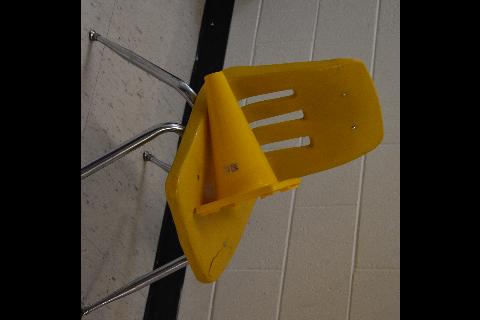cone: (193, 70, 301, 216)
